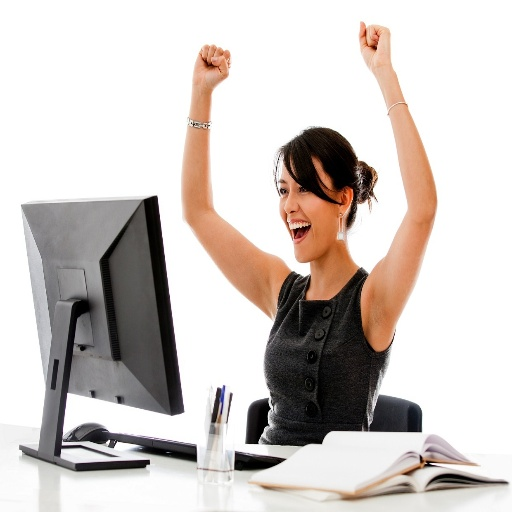hand: (355, 10, 398, 85), (190, 42, 231, 88)
